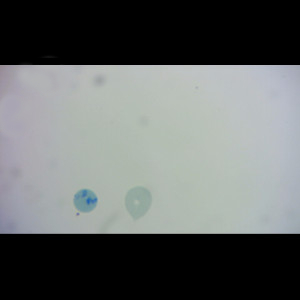aggregate reticulocyte: (72, 188, 100, 214)
erythrocyte: (123, 185, 154, 222)
